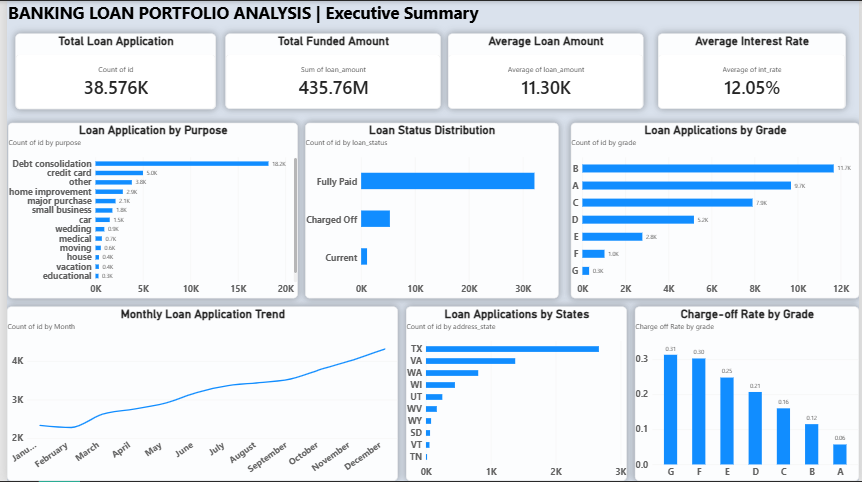

Layout of this report page (visuals, bound fields, positions):
{"tool":"powerbi","page":{"name":"Page 1","canvas":[1920,1080],"ordinal":0},"visuals":[{"type":"cardVisual","title":"Total Loan Applications ","fields":{"Data":["CountNonNull(financial_db financial_loan.id)"]},"box":[0,72.5,457.5,170],"z":0},{"type":"cardVisual","title":"Total Funded Amount","fields":{"Data":["Sum(financial_db financial_loan.loan_amount)"]},"box":[475,72.5,485,170],"z":1000},{"type":"cardVisual","title":"Average Loan Amount","fields":{"Data":["Avg(financial_db financial_loan.loan_amount)"]},"box":[992.5,72.5,440,170],"z":2000},{"type":"cardVisual","title":"Average Interest Rate","fields":{"Data":["Avg(financial_db financial_loan.int_rate)"]},"box":[1465,72.5,422.5,170],"z":3000},{"type":"clusteredBarChart","title":"Loan Status Distribution","fields":{"Category":["financial_db financial_loan.loan_status"],"Y":["CountNonNull(financial_db financial_loan.id)"]},"box":[672.5,275,570,395],"z":4000},{"type":"lineChart","title":"Monthly Loan Application Trend","fields":{"Category":["financial_db financial_loan.issue_date.Variation.Date Hierarchy.Month"],"Y":["CountNonNull(financial_db financial_loan.id)"]},"box":[0,687.5,880,392.5],"z":5000},{"type":"clusteredBarChart","title":"Loan Application by Purpose","fields":{"Category":["financial_db financial_loan.purpose"],"Y":["CountNonNull(financial_db financial_loan.id)"]},"box":[2.5,275,652.5,395],"z":6000},{"type":"clusteredBarChart","title":"Loan Applications by Grade","fields":{"Category":["financial_db financial_loan.grade"],"Y":["CountNonNull(financial_db financial_loan.id)"]},"box":[1270,275,650,395],"z":7000},{"type":"clusteredBarChart","title":"Loan Applications by  States","fields":{"Category":["financial_db financial_loan.address_state"],"Y":["CountNonNull(financial_db financial_loan.id)"]},"box":[897.5,687.5,497.5,392.5],"z":8000},{"type":"clusteredColumnChart","title":"Charge-off Rate by Grade","fields":{"Category":["financial_db financial_loan.grade"],"Y":["financial_db financial_loan.Charge off Rate"]},"box":[1415,687.5,505,392.5],"z":9000},{"type":"textbox","box":[2.5,0,1632.5,72.5],"z":10000}]}

Visuals, with their boxes in screenshot pixels (x1, y1, x2, y2), scaled from the page's 1920x1080 canvas onto the 862x482 screenshot:
"Total Loan Applications " cardVisual: rect(0, 32, 205, 108)
"Total Funded Amount" cardVisual: rect(213, 32, 431, 108)
"Average Loan Amount" cardVisual: rect(446, 32, 643, 108)
"Average Interest Rate" cardVisual: rect(658, 32, 847, 108)
"Loan Status Distribution" clusteredBarChart: rect(302, 123, 558, 299)
"Monthly Loan Application Trend" lineChart: rect(0, 307, 395, 481)
"Loan Application by Purpose" clusteredBarChart: rect(1, 123, 294, 299)
"Loan Applications by Grade" clusteredBarChart: rect(570, 123, 861, 299)
"Loan Applications by  States" clusteredBarChart: rect(403, 307, 626, 481)
"Charge-off Rate by Grade" clusteredColumnChart: rect(635, 307, 861, 481)
textbox: rect(1, 0, 734, 32)
